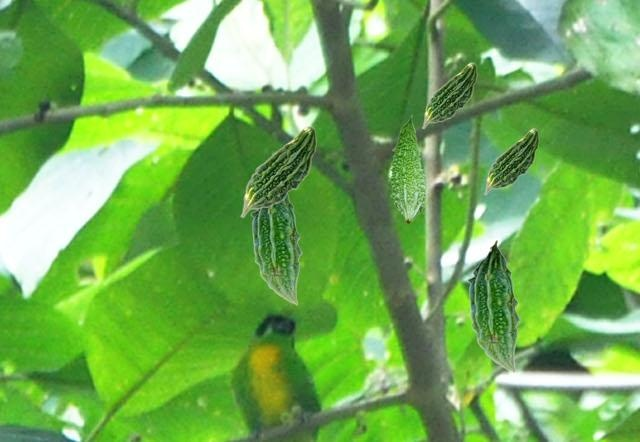ampalaya: (240, 125, 317, 218), (467, 239, 520, 373), (250, 193, 302, 305), (388, 114, 428, 224), (421, 62, 477, 129), (483, 128, 539, 195)
